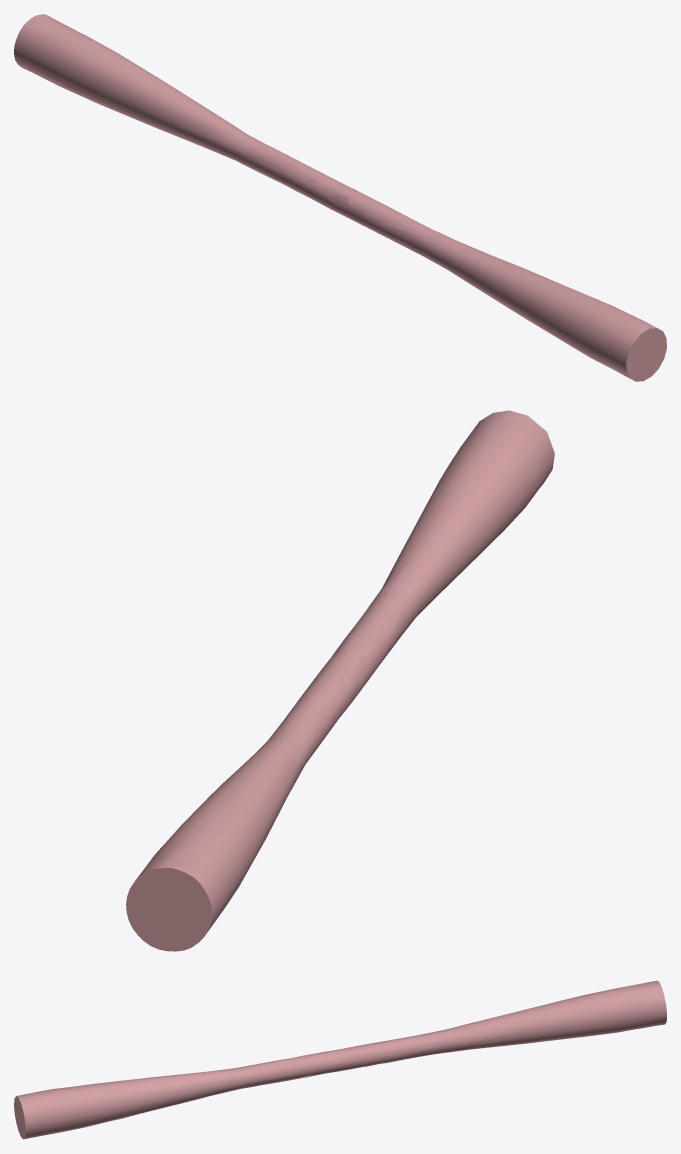
The model's file is fma64148_mm1173m.glb.
The picture shows the model from 3 angles, top to bottom: view 1: azimuth 30°, elevation 25°; view 2: azimuth 150°, elevation 25°; view 3: azimuth 270°, elevation 25°; orthographic projection. The views are drawn at different scales.
Parts seen in each view (by area): view 1: FMA64148_MM1173M; view 2: FMA64148_MM1173M; view 3: FMA64148_MM1173M.
Boxes of the visible parts, left/top/right/bottom form: FMA64148_MM1173M: left=14, top=14, right=666, bottom=381; FMA64148_MM1173M: left=126, top=410, right=554, bottom=951; FMA64148_MM1173M: left=14, top=980, right=666, bottom=1139.
Bounding box in the file's own units: 0.00655 × 0.00278 × 0.0199.
